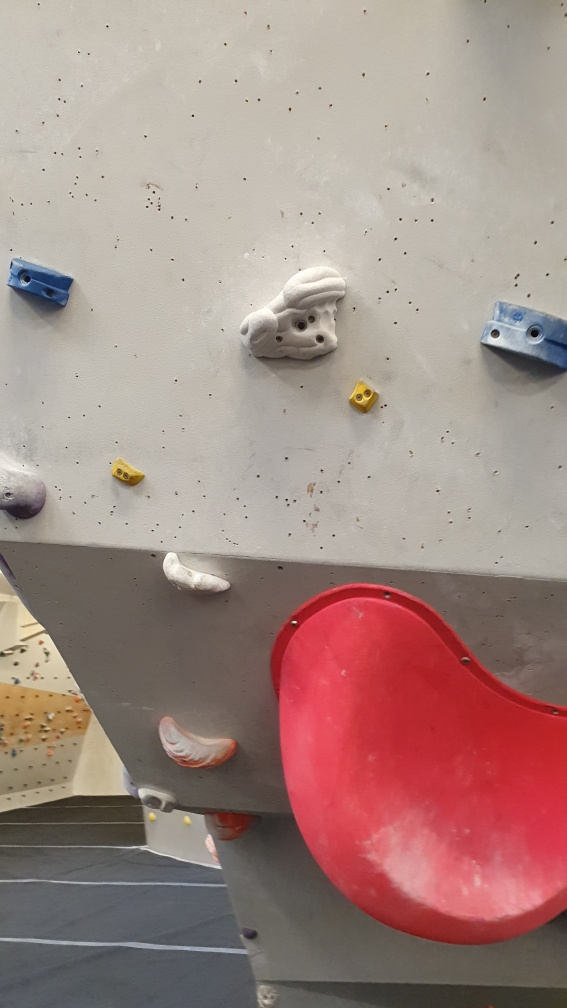Crimp: (109, 454, 150, 489)
Jug: (235, 263, 348, 365), (154, 713, 243, 777), (160, 548, 239, 598)
Pinch: (477, 294, 567, 369), (4, 252, 79, 314), (344, 376, 383, 412)
